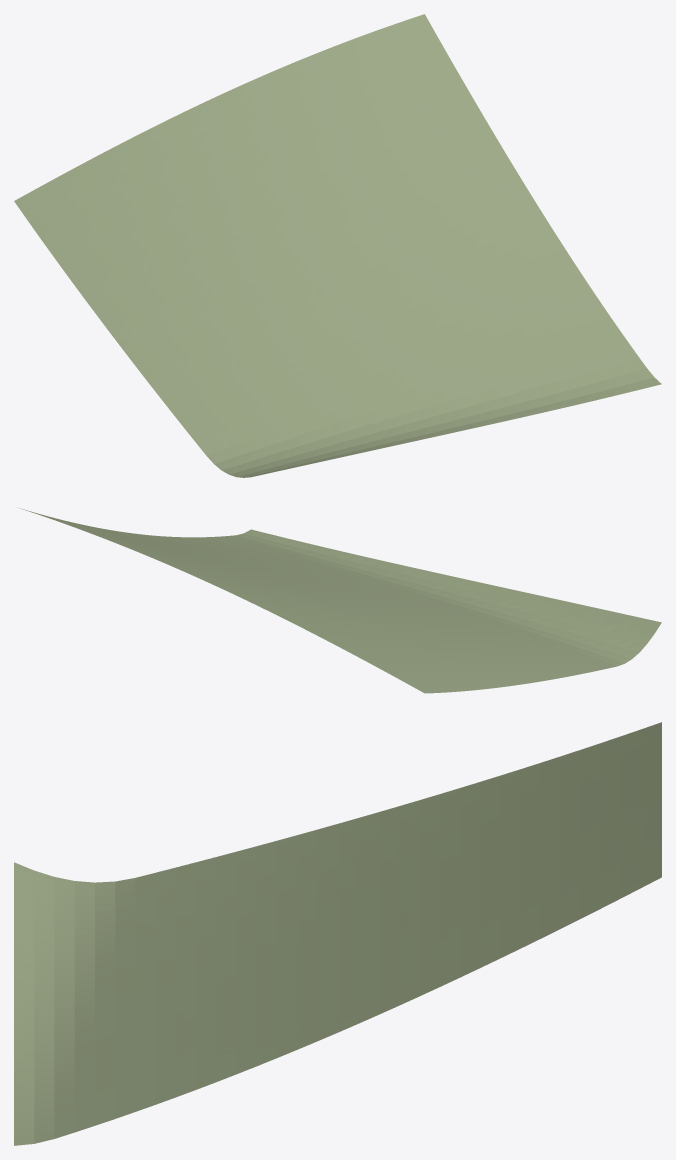
Rendered from alpine-7-10.glb.
3 views of the same model, one above another, from view 1: azimuth 30°, elevation 25°; view 2: azimuth 150°, elevation 25°; view 3: azimuth 270°, elevation 25° (orthographic). The views are drawn at different scales.
Visible parts, largest first — view 1: alpine-7-10; view 2: alpine-7-10; view 3: alpine-7-10.
Boxes of the visible parts, bbox=[...] form: alpine-7-10: bbox=[14, 14, 661, 477]; alpine-7-10: bbox=[19, 508, 661, 693]; alpine-7-10: bbox=[14, 722, 661, 1145].
Size of the model in its own units: 256 by 122 by 256.
